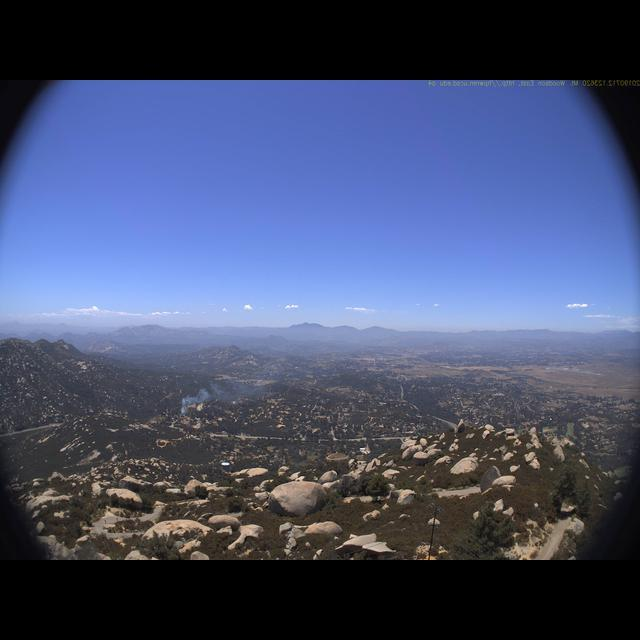Smoke: (178, 376, 265, 417)
